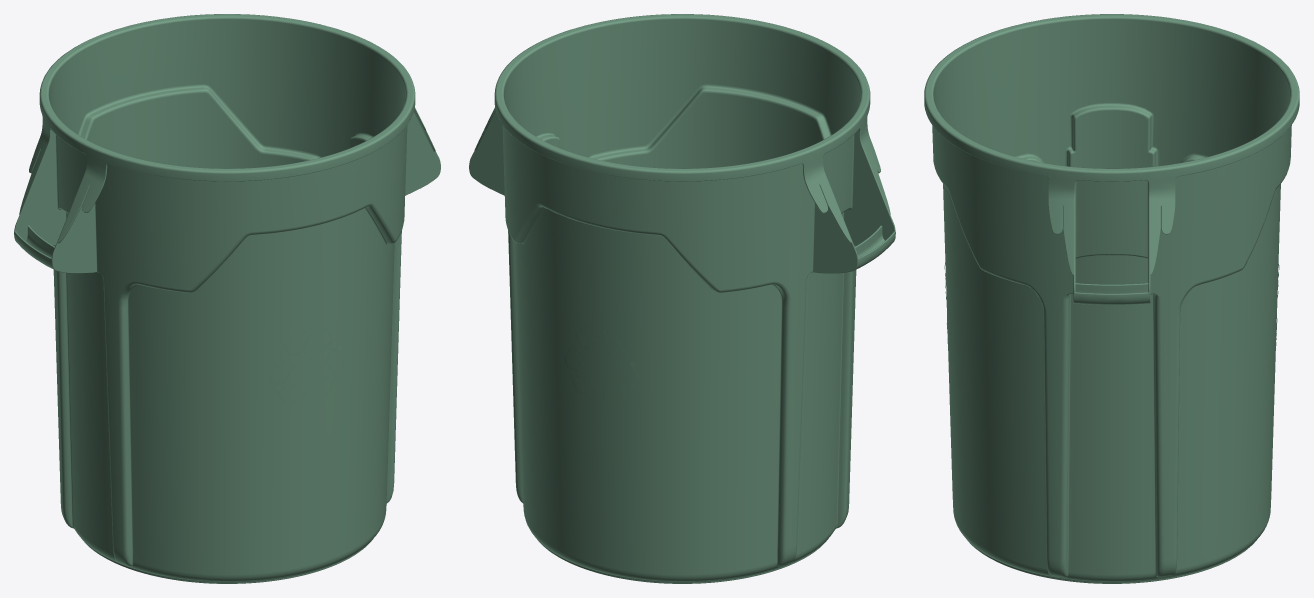
The model's file is container_recycle_green_b03.glb.
3 views of the same model, side by side, from view 1: azimuth 30°, elevation 25°; view 2: azimuth 150°, elevation 25°; view 3: azimuth 270°, elevation 25° (orthographic).
Bounding box in the file's own units: 0.7566 × 0.7812 × 0.6231.
